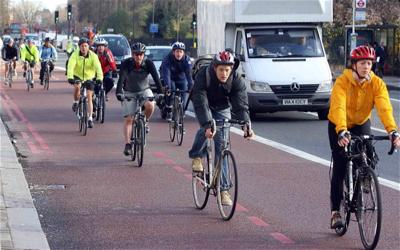With Helmet: (349, 44, 380, 82), (210, 51, 238, 82), (129, 40, 148, 65), (170, 40, 190, 62), (76, 36, 92, 55)
